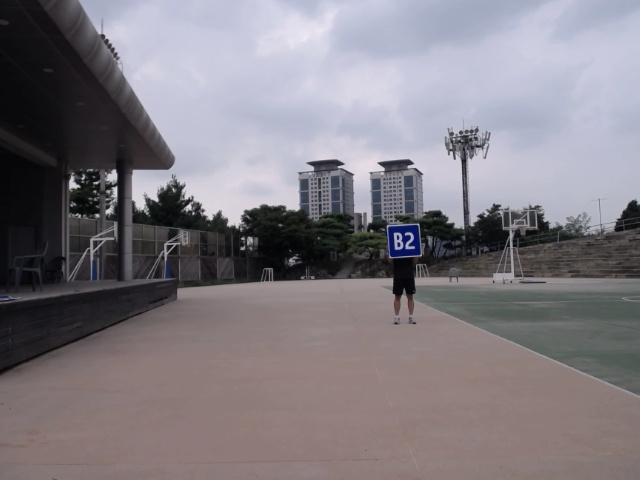delivery_b2: (386, 224, 422, 258)
